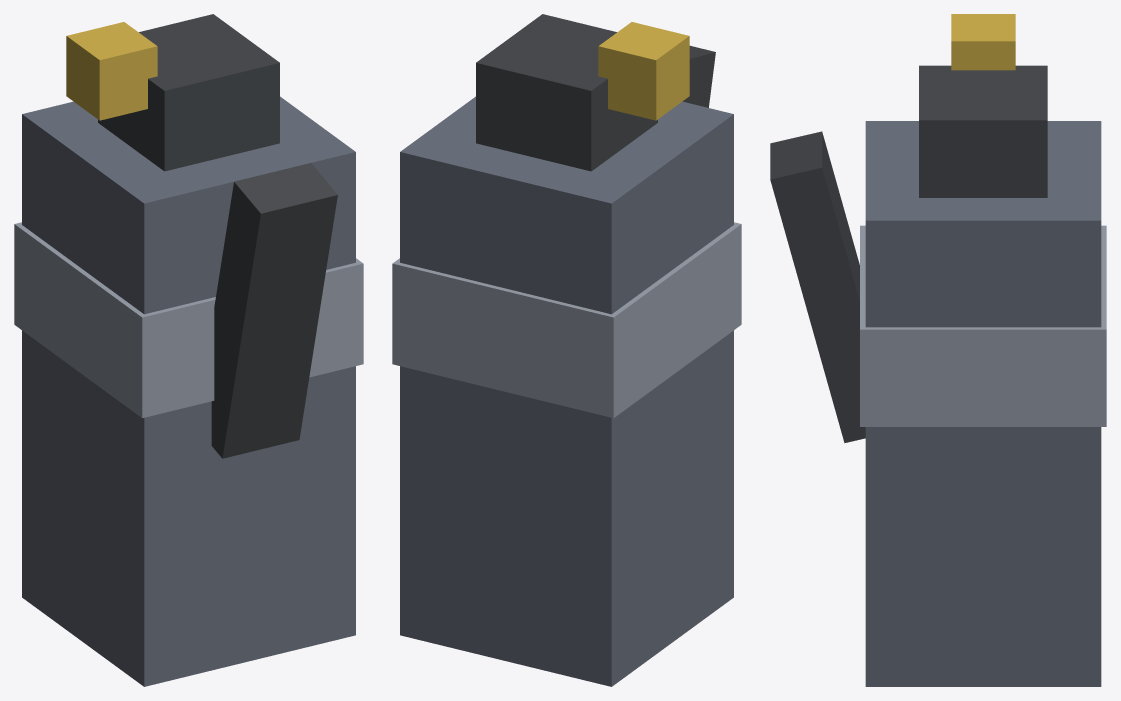
The model's file is gun-smoke.glb.
The picture shows the model from 3 angles, left to right: view 1: azimuth 30°, elevation 25°; view 2: azimuth 150°, elevation 25°; view 3: azimuth 270°, elevation 25°; orthographic projection. The views are drawn at different scales.
Visible parts, largest first — view 1: smoke; view 2: smoke; view 3: smoke.
Boxes of the visible parts, x1,y1,x2,y2 form: smoke: (14,14,363,686); smoke: (392,14,741,686); smoke: (770,14,1106,686).
Bounding box in the file's own units: 0.115 × 0.295 × 0.1569.
